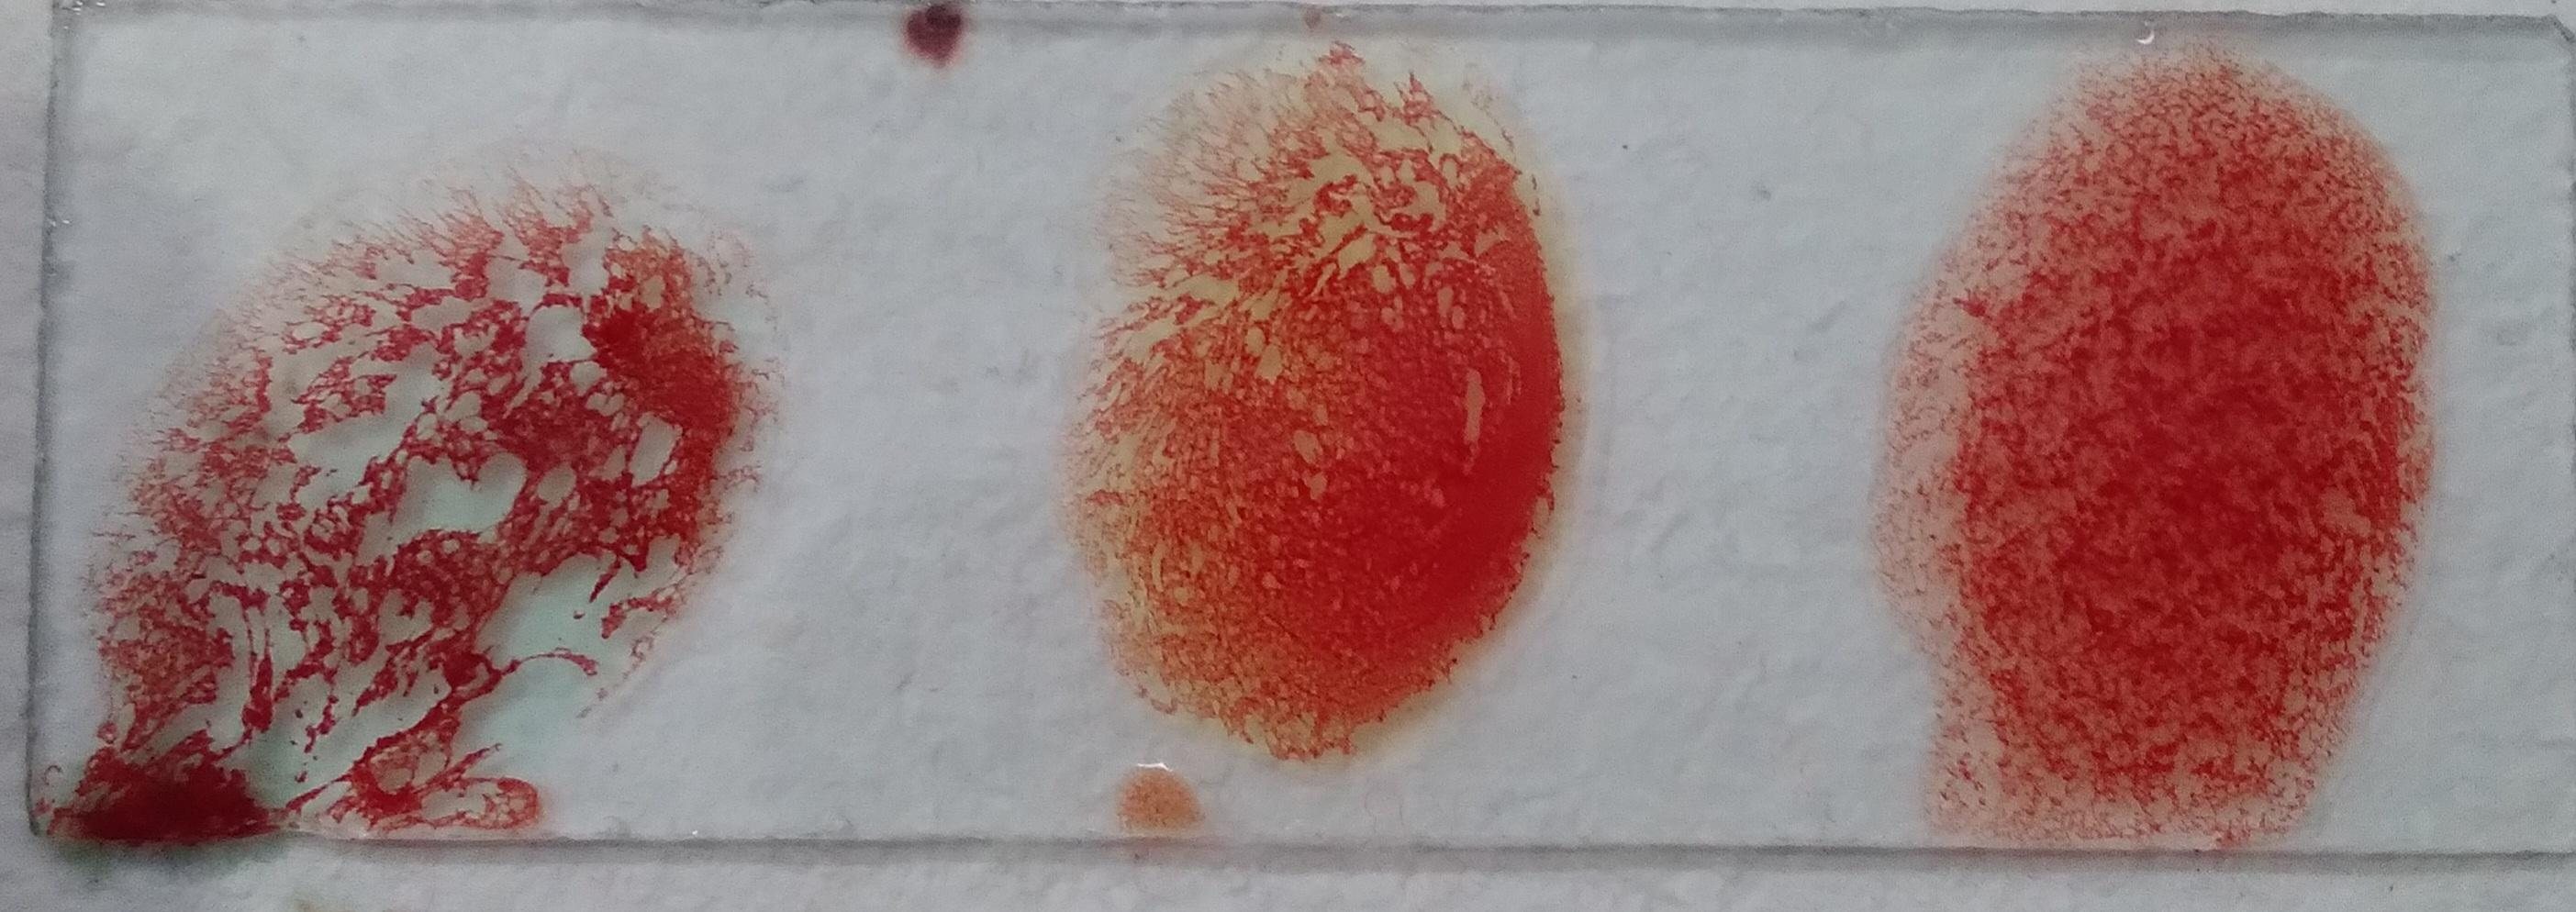A: (1827, 67, 2495, 741)
B: (1022, 145, 1467, 854)
D: (136, 87, 655, 856)
